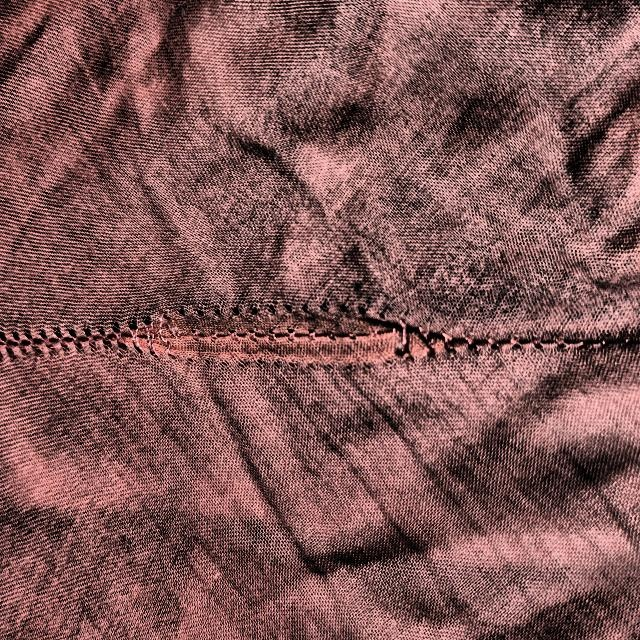seam: (2, 202, 524, 449), (0, 263, 202, 419)
